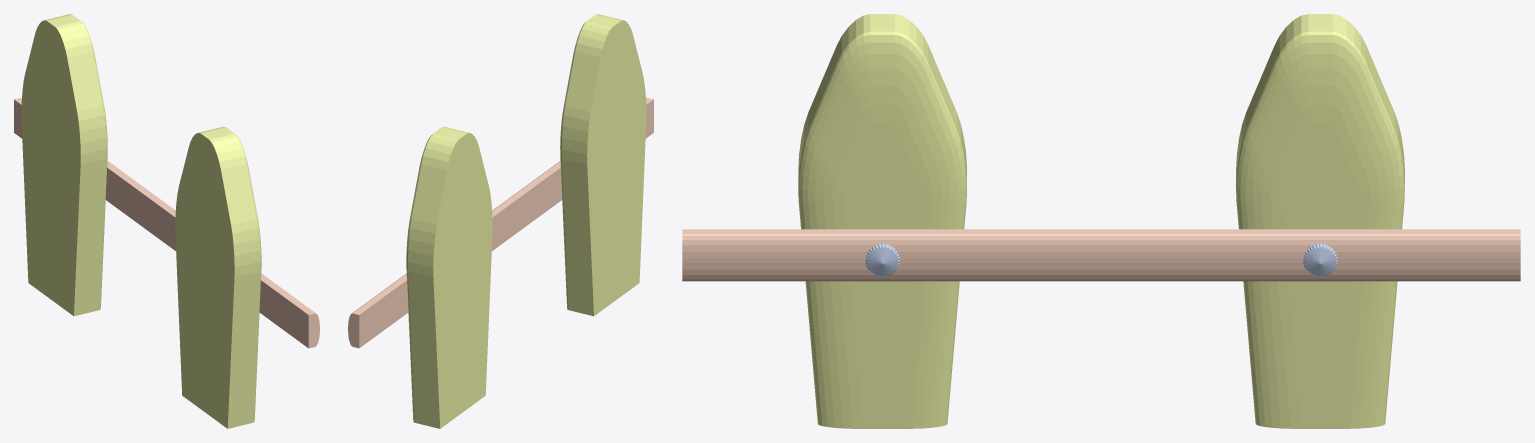
Rendered from fence.fbx.
3 renders of one model, left to right at view 1: azimuth 30°, elevation 25°; view 2: azimuth 150°, elevation 25°; view 3: azimuth 270°, elevation 25°, orthographic. The views are drawn at different scales.
Parts seen in each view (by area): view 1: Cube.005, Cube.003, Cube.004; view 2: Cube.003, Cube.005, Cube.004; view 3: Cube.005, Cube.003, Cube.004, Cylinder.002, Cylinder.003.
Boxes of the visible parts, x1,y1,x2,y2 form: Cube.005: (21, 14, 107, 316); Cube.003: (175, 126, 261, 428); Cube.004: (14, 98, 319, 348); Cube.003: (560, 14, 646, 316); Cube.005: (406, 126, 492, 428); Cube.004: (348, 97, 653, 348); Cube.005: (1236, 14, 1404, 428); Cube.003: (798, 14, 966, 428); Cube.004: (682, 229, 1520, 281); Cylinder.002: (1303, 243, 1337, 276); Cylinder.003: (865, 243, 900, 276).
Bounding box in the file's own units: 153 × 79.1 × 14.62.
